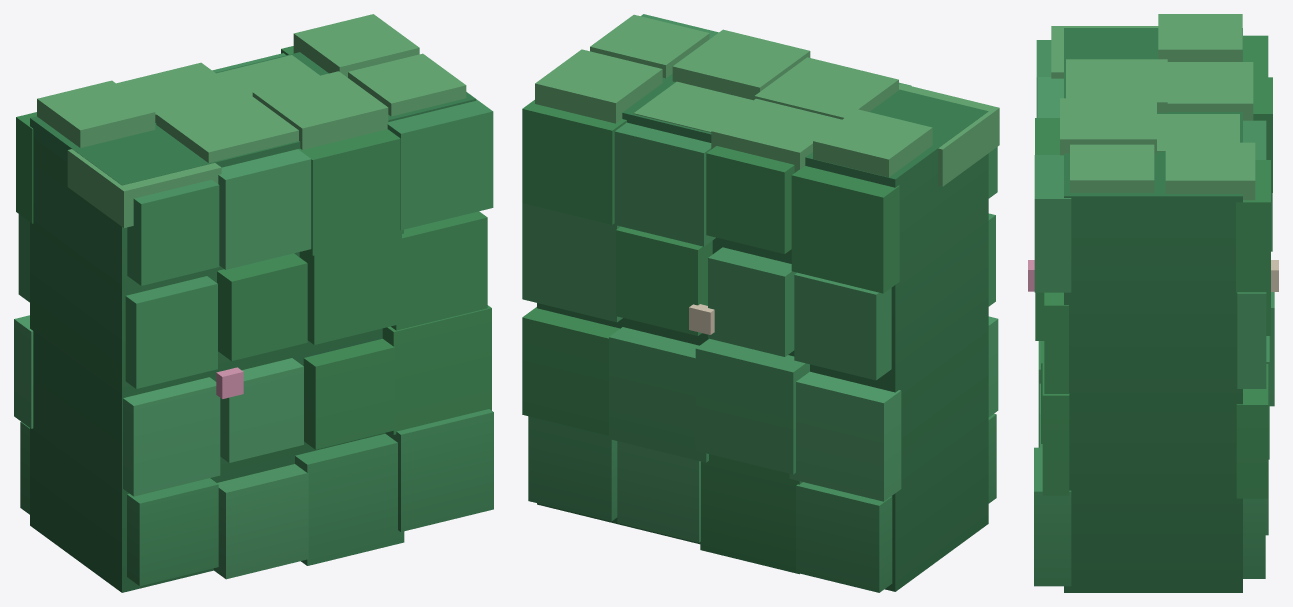
File: hedge-2m-h2.2.glb
The picture shows the model from 3 angles, left to right: view 1: azimuth 30°, elevation 25°; view 2: azimuth 150°, elevation 25°; view 3: azimuth 270°, elevation 25°; orthographic projection. The views are drawn at different scales.
Visible parts, largest first — view 1: hedge-2m-h2.2_body; view 2: hedge-2m-h2.2_body; view 3: hedge-2m-h2.2_body.
Boxes of the visible parts, x1,y1,x2,y2 form: hedge-2m-h2.2_body: (14,14,493,592); hedge-2m-h2.2_body: (522,14,999,592); hedge-2m-h2.2_body: (1028,14,1278,592).
Size of the model in its own units: 2.05 by 2.33 by 1.26.
